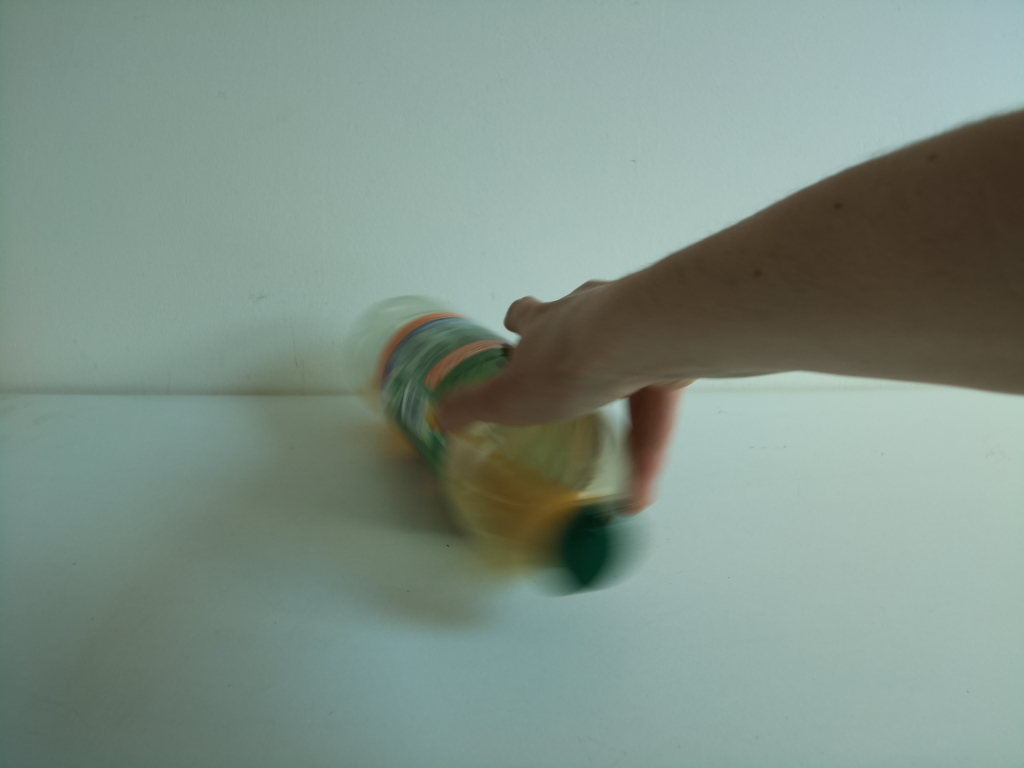juice: (345, 289, 652, 608)
